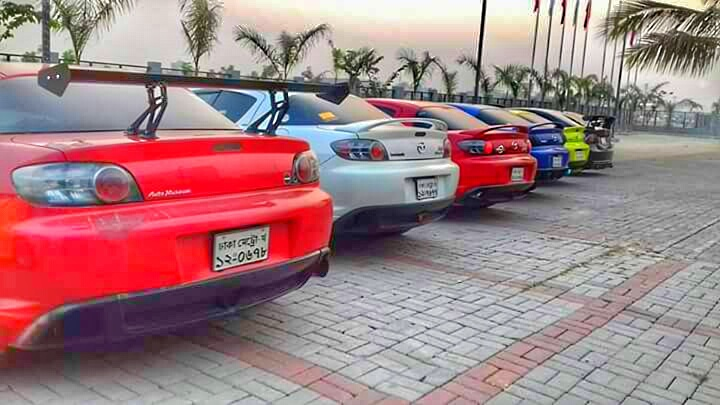registration_plate: (213, 225, 270, 272), (417, 177, 439, 199), (511, 168, 523, 181)
